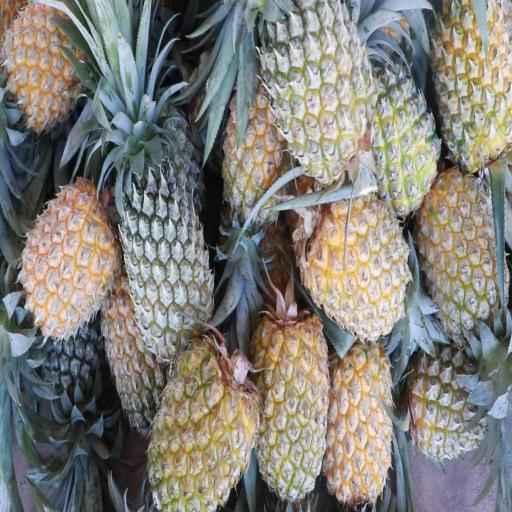------------------------------: (262, 0, 370, 175), (422, 175, 508, 325), (438, 0, 512, 162), (108, 279, 172, 433), (406, 343, 486, 457)
Pineapple - v8 v1: (146, 343, 262, 509), (303, 182, 404, 330), (254, 310, 328, 496), (22, 186, 115, 330), (4, 2, 94, 120), (328, 346, 392, 502), (368, 70, 437, 206), (223, 78, 287, 221)
